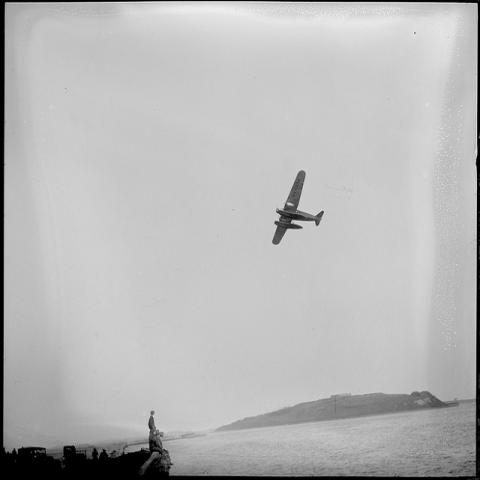truck: (64, 446, 86, 460)
